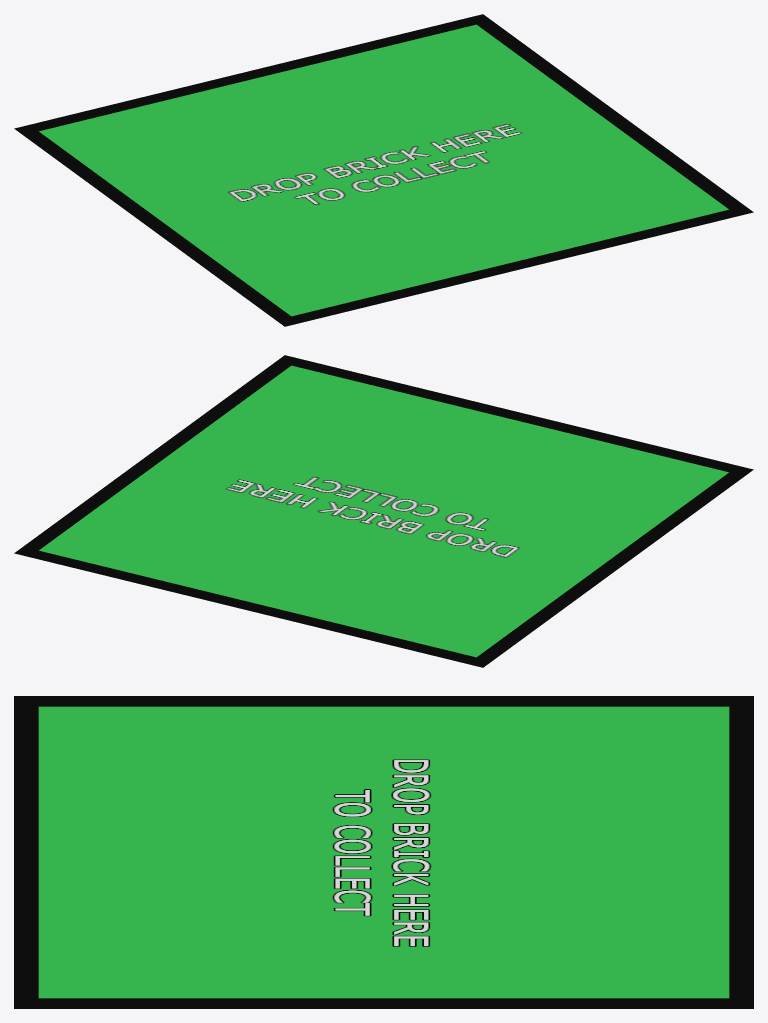
Rendered from CollectPlane.glb.
The picture shows the model from 3 angles, top to bottom: view 1: azimuth 30°, elevation 25°; view 2: azimuth 150°, elevation 25°; view 3: azimuth 270°, elevation 25°; orthographic projection. The views are drawn at different scales.
Visible parts, largest first — view 1: CollectPlane; view 2: CollectPlane; view 3: CollectPlane.
Boxes of the visible parts, <box> form: CollectPlane: <box>14,14,753,326</box>; CollectPlane: <box>14,355,753,667</box>; CollectPlane: <box>14,696,753,1008</box>.
Bounding box in the file's own units: 3 × 0 × 3.
2 materials, 1 textured.
